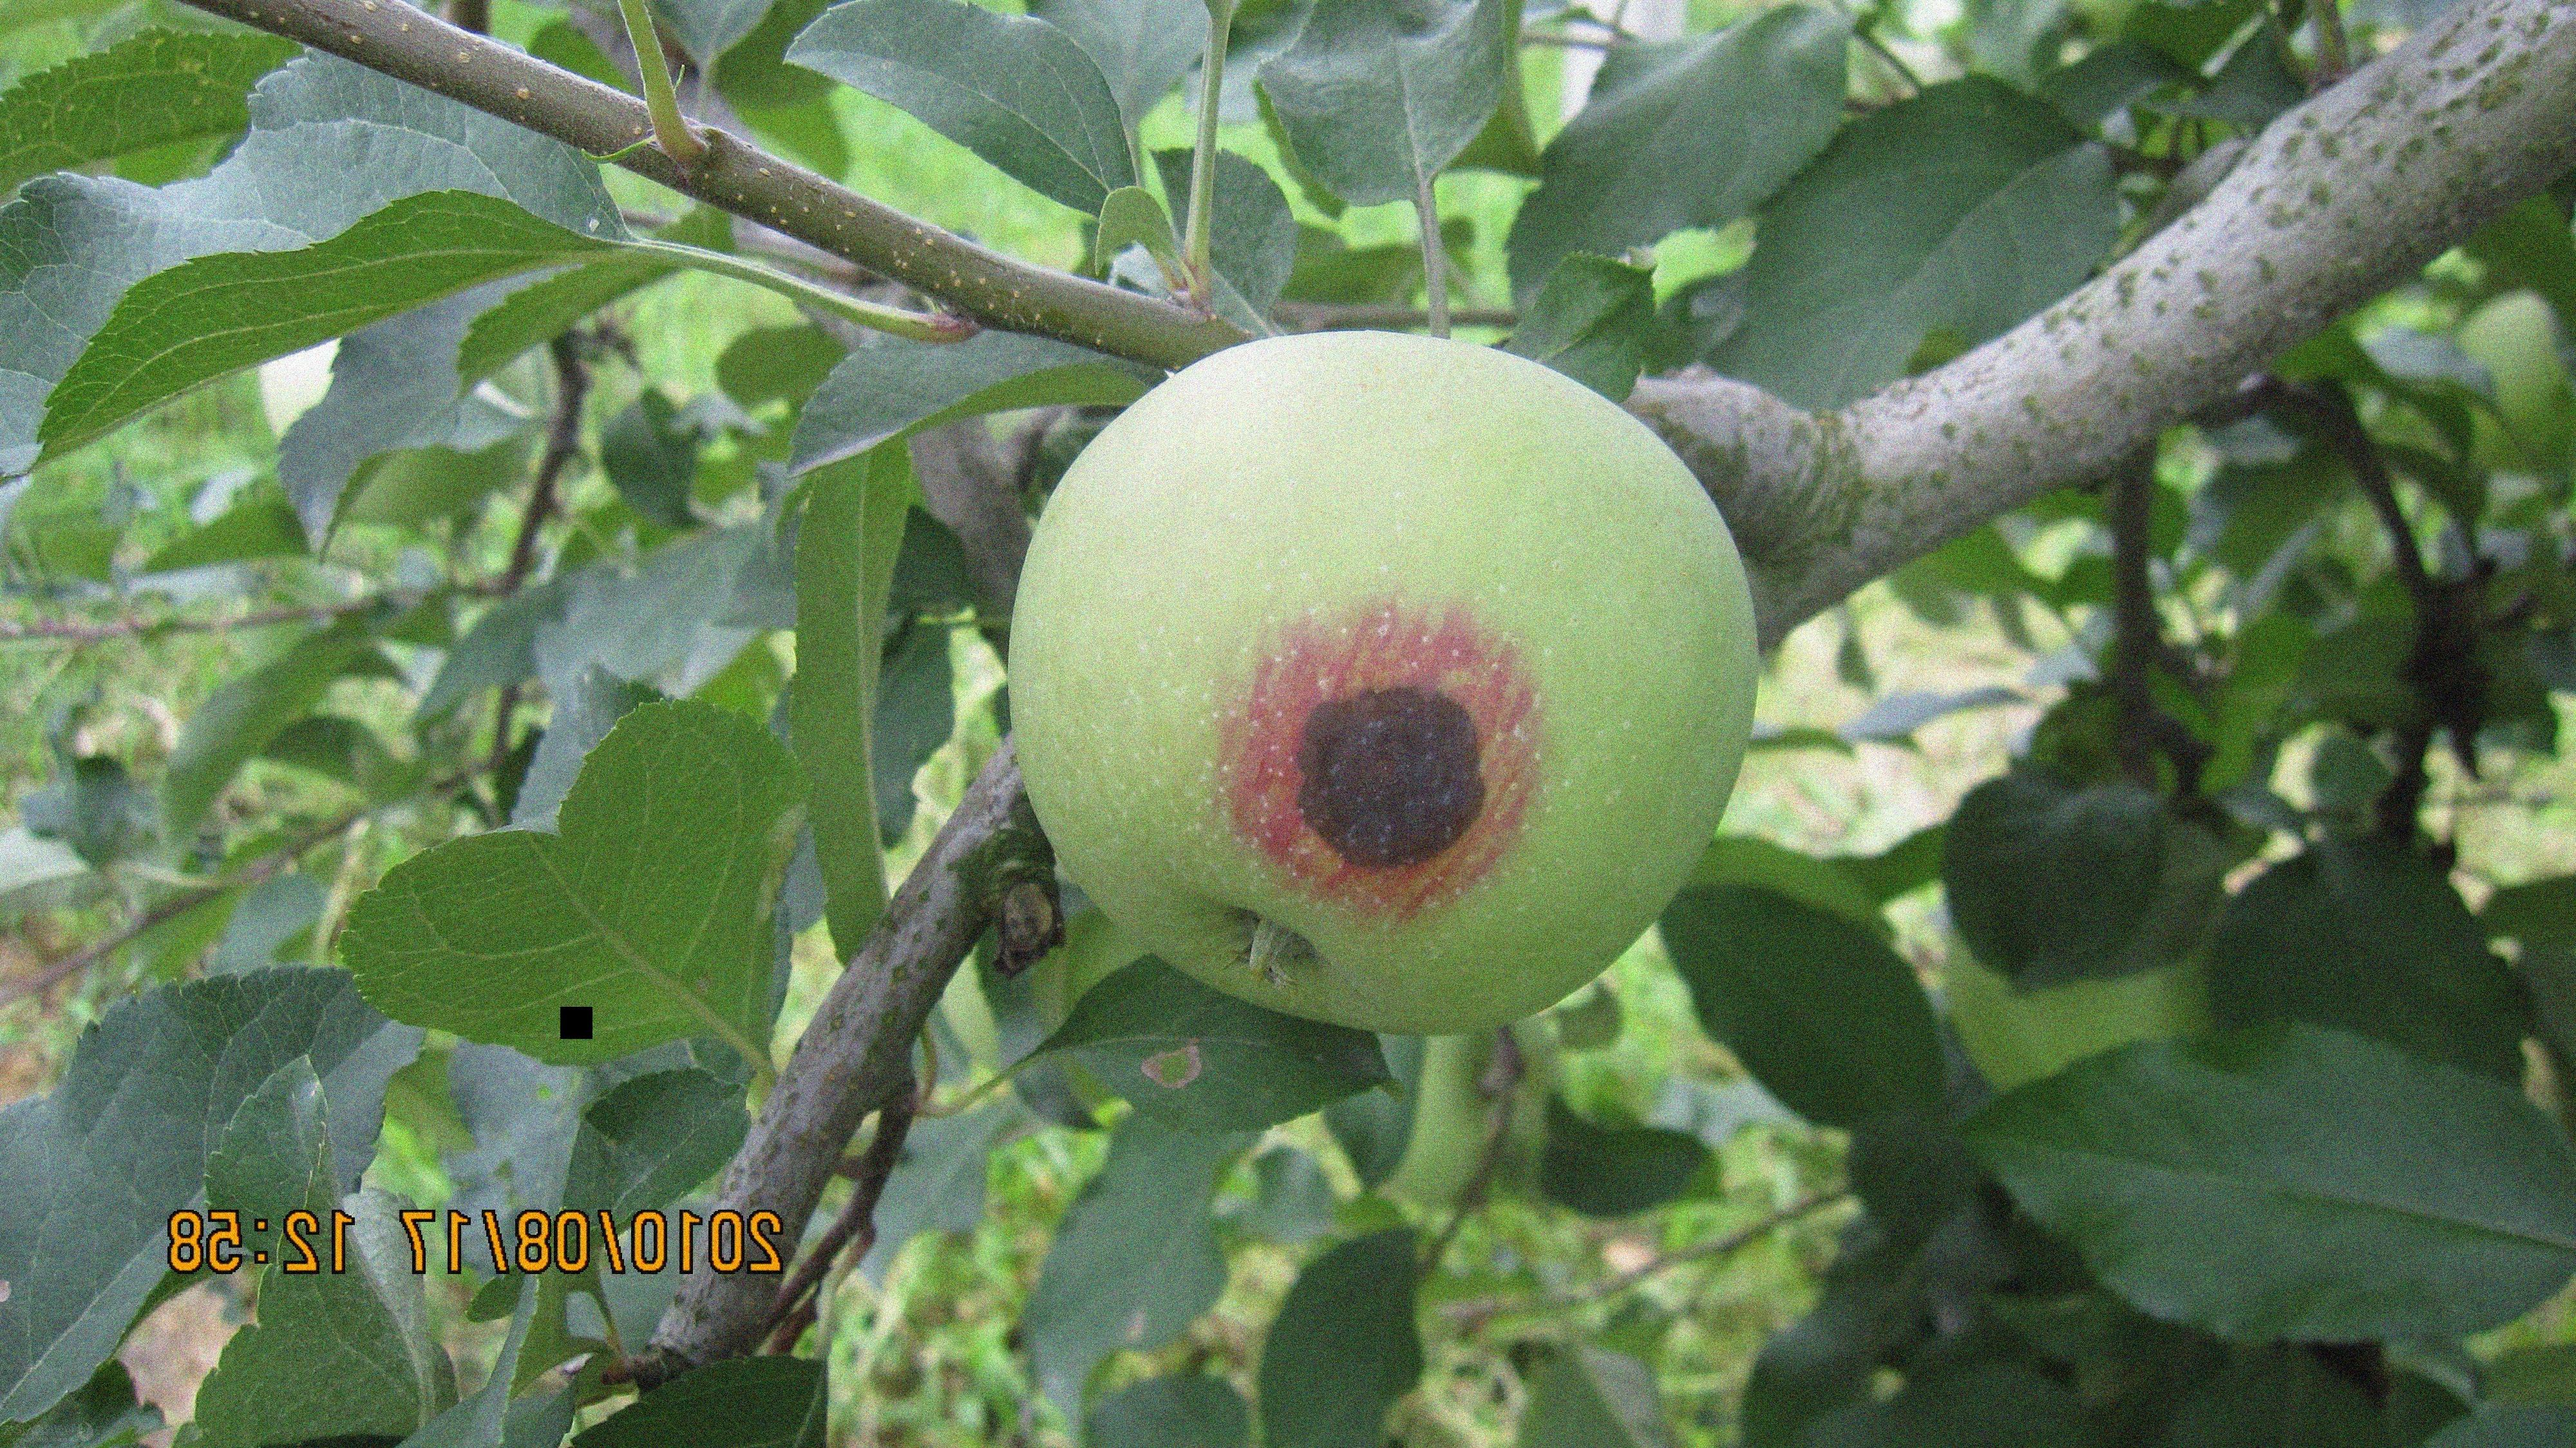rotten apple: (957, 331, 1764, 1048)
